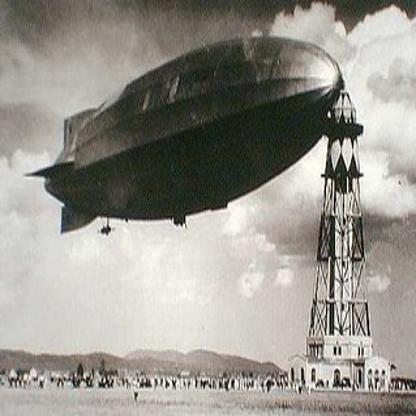Airship: (25, 35, 344, 238)
